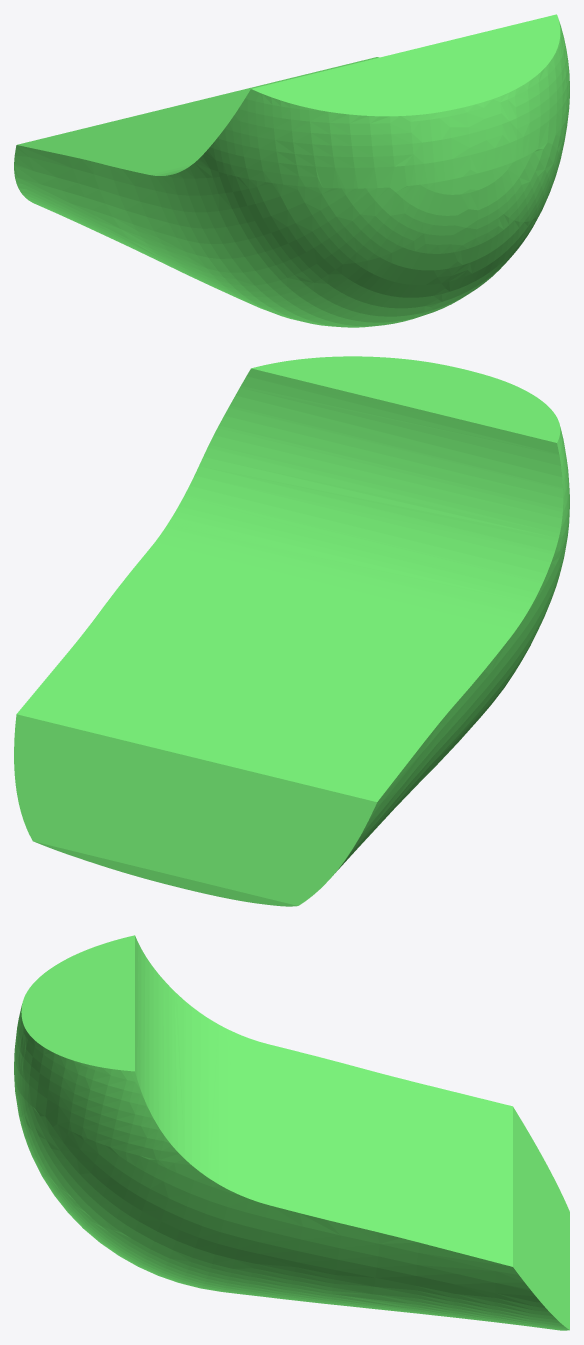
File: right_ring_elastomer_render.glb
3 views of the same model, one above another, from view 1: azimuth 30°, elevation 25°; view 2: azimuth 150°, elevation 25°; view 3: azimuth 270°, elevation 25° (orthographic). The views are drawn at different scales.
Visible parts, largest first — view 1: world; view 2: world; view 3: world.
Boxes of the visible parts, x1,y1,x2,y2 form: world: (14, 14, 569, 327); world: (14, 356, 569, 906); world: (14, 935, 569, 1330).
Size of the model in its own units: 0.0137 by 0.0116 by 0.0199.
